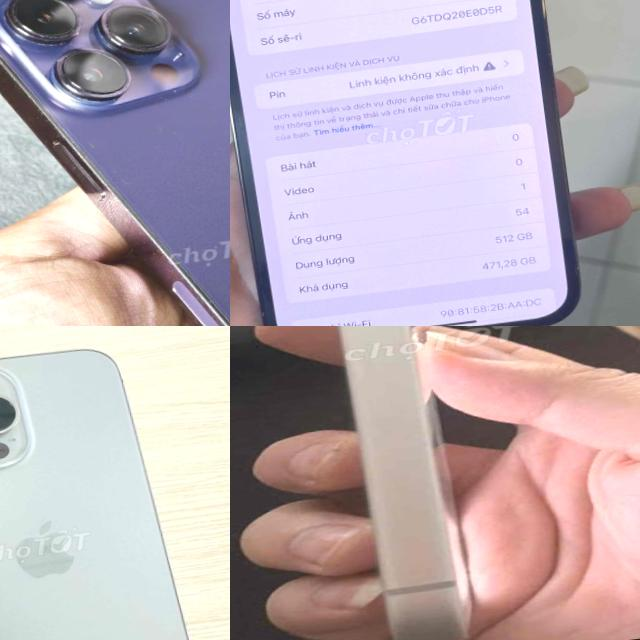gen_12_13: (230, 0, 592, 326)
gen_14: (0, 0, 230, 326)
gen_15: (0, 326, 226, 640)
gen_17: (246, 326, 569, 640)
